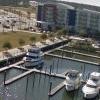Boat: (63, 61, 100, 100)
